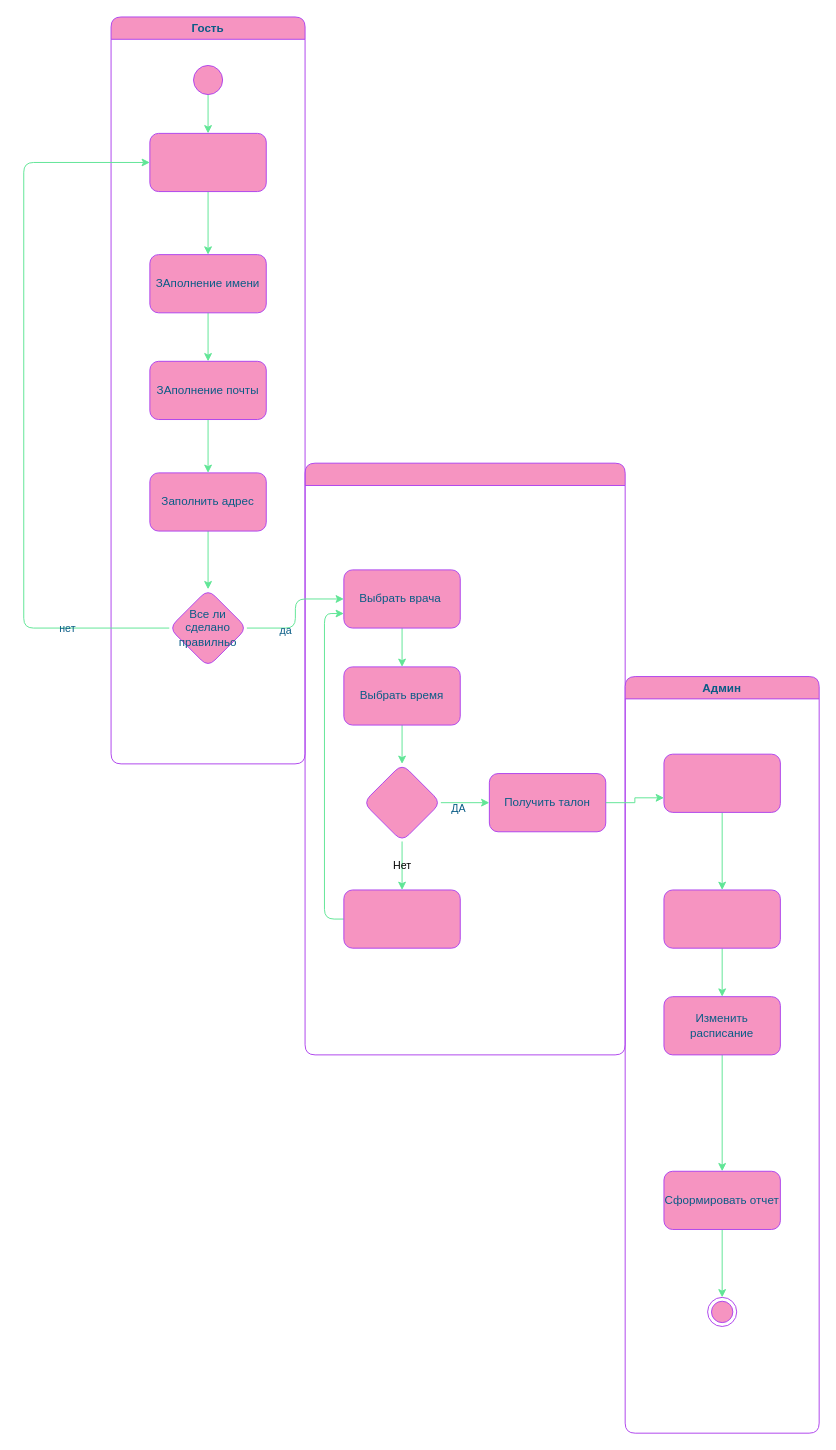
Some shapes in this 836 by 1450 pixel diagram are drawn without their labels. The shapes that lost their labels are listed below. From the top down, each one's box as (x1, y1, x2, y2) in pixels, then its label:
(149, 132, 266, 192): Начать регистрацию пользователя
(304, 462, 625, 1055): Пользователь
(362, 763, 441, 841): подходит ли время
(663, 753, 780, 812): Получить данные пацинта
(343, 889, 460, 948): Выбрать другого врача
(663, 889, 780, 948): Ведение бд
